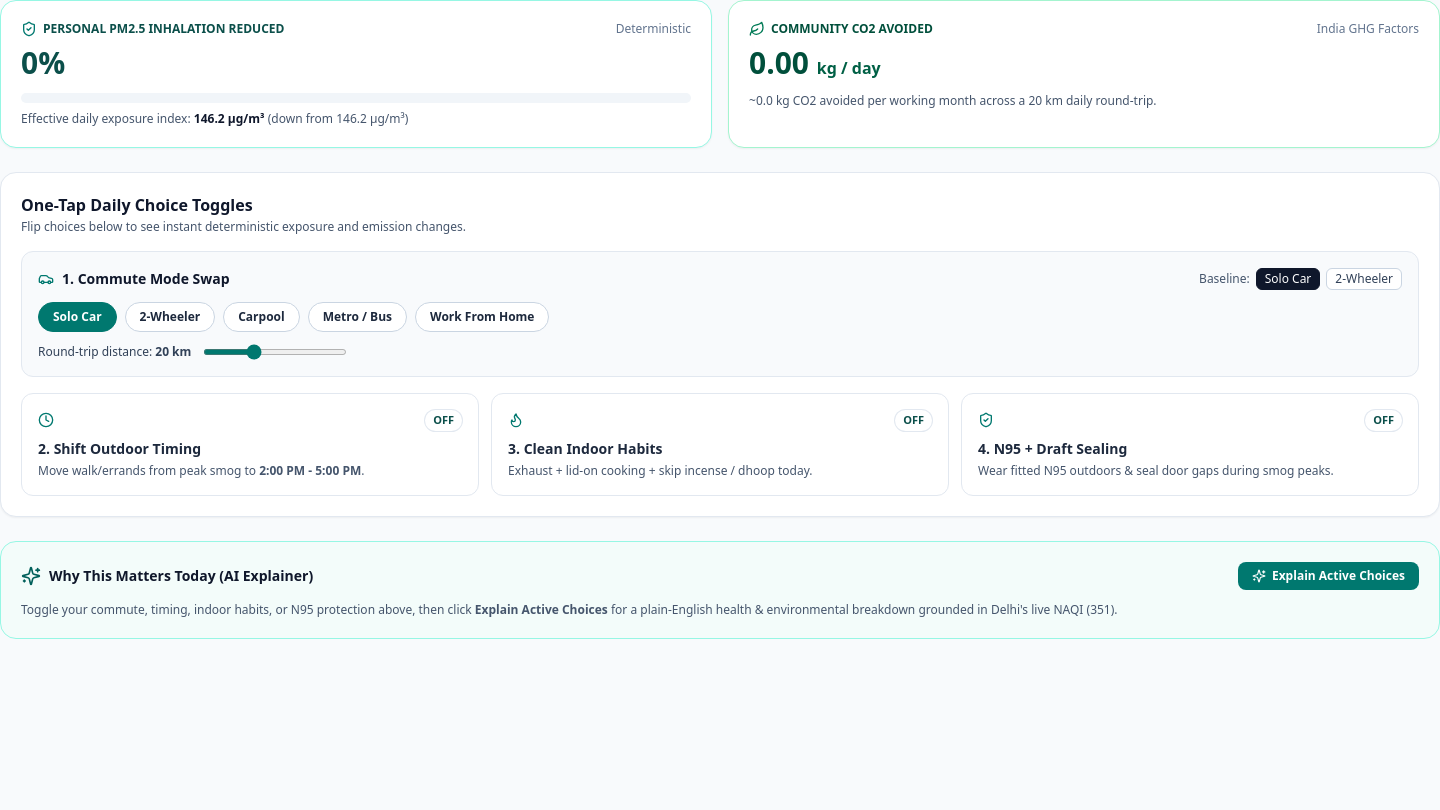
Test: UI Components — Accessibility, Resilience & Edge Cases › updates SmogShift deterministic PM2.5 and CO2 meters immediately on toggle clicks
The image size is (1440, 810).
Later steps or results of the test are not shown.
Expected: the text with test id "pm25-reduction-value" reads "0%", [21, 42, 65, 83]
Expected: the element with test id "co2-avoided-value" shows "0.00", [749, 42, 809, 83]
Click the button "Metro / Bus": (357, 317) [308, 302, 407, 332]
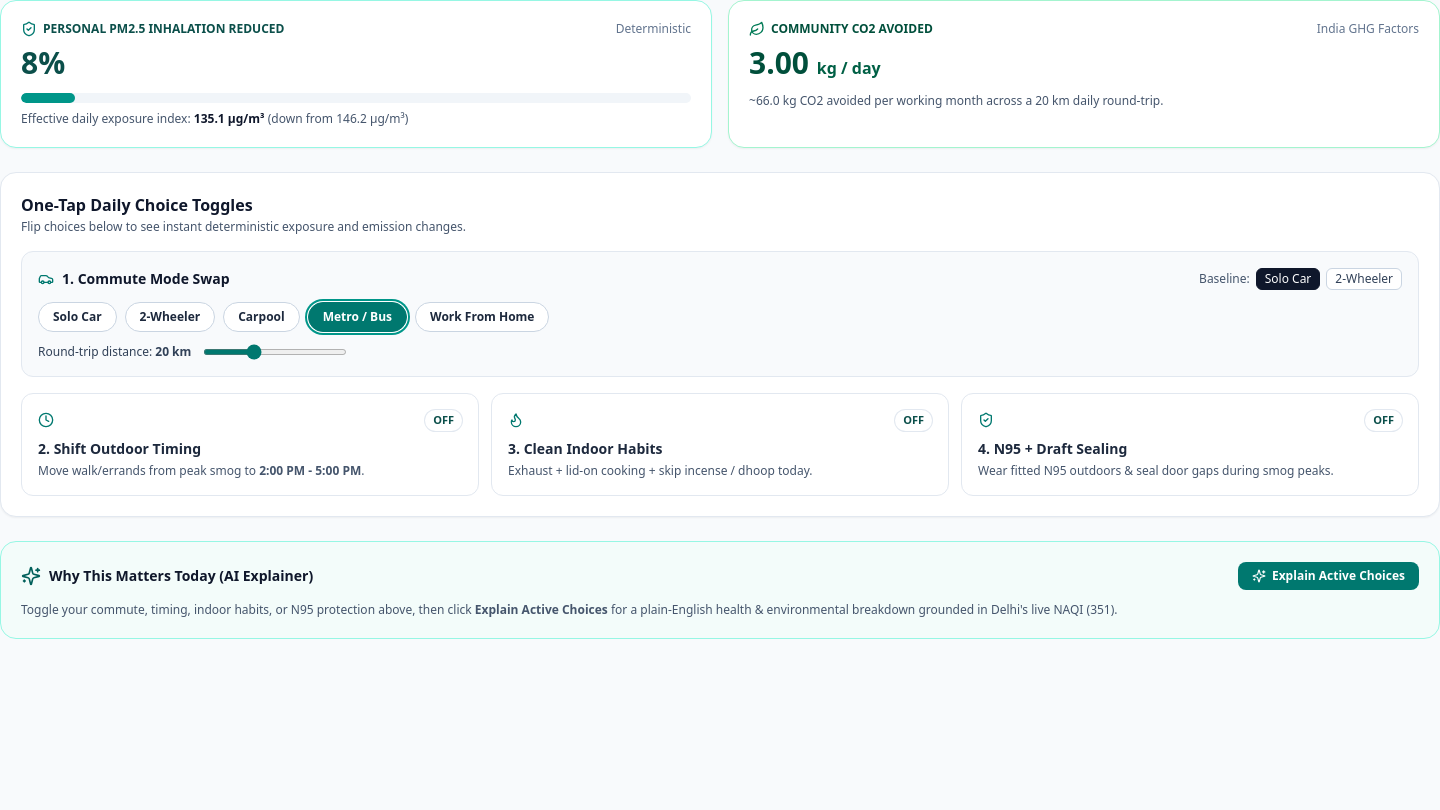
Now the element with test id "co2-avoided-value" shows "3.00", box [749, 42, 809, 83]
Click the button "2. Shift Outdoor Timing": (444, 420) [21, 393, 479, 496]
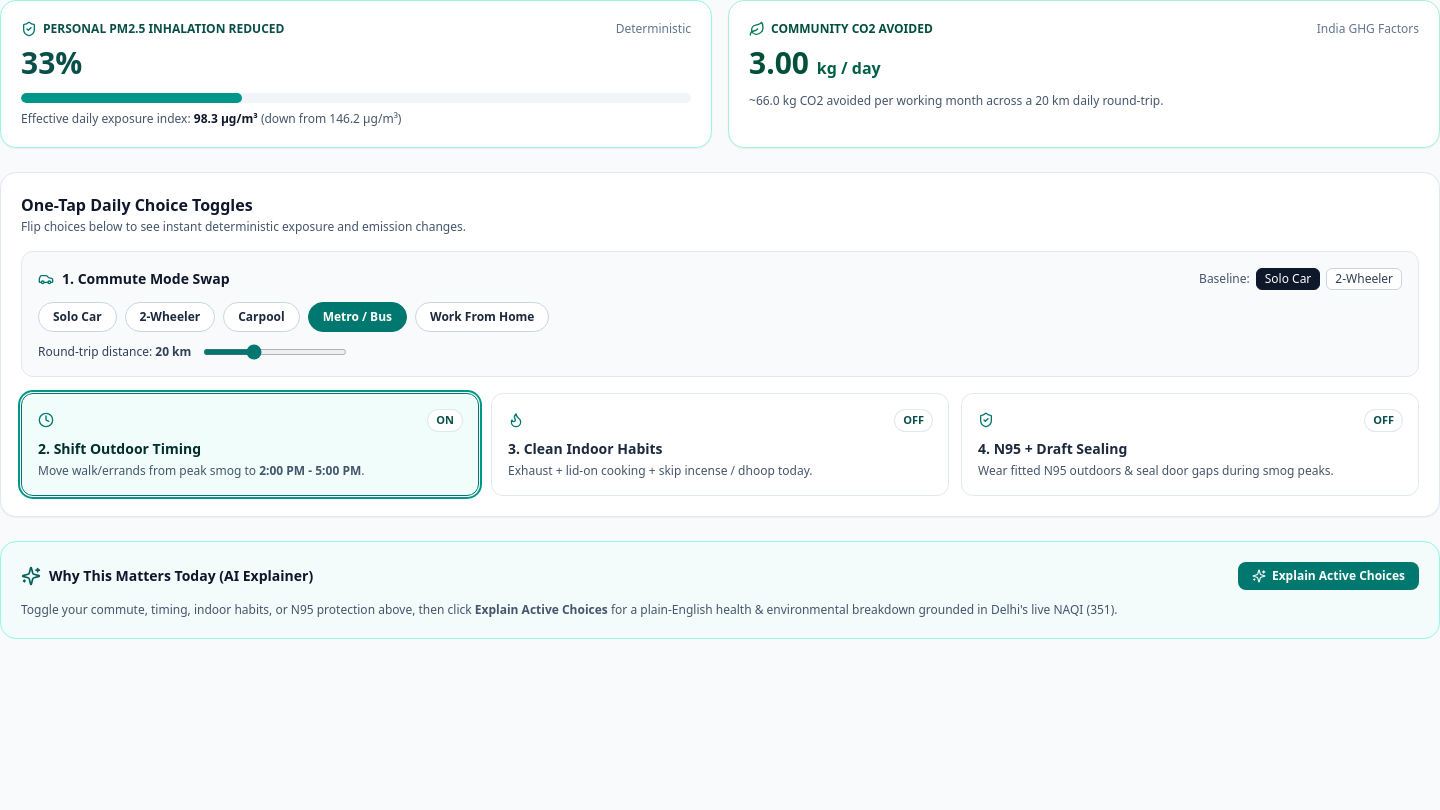
Now the button "2. Shift Outdoor Timing" is pressed, box [21, 393, 479, 496]
